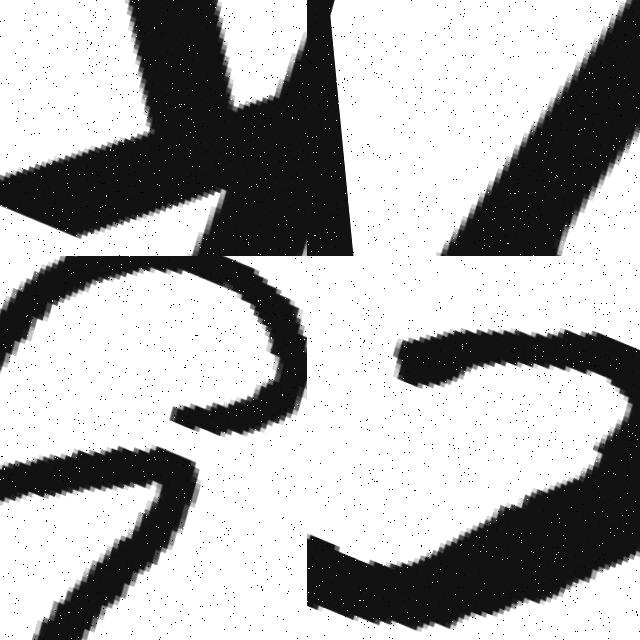C: (307, 321, 640, 627)
K: (0, 0, 307, 256)
L: (388, 0, 640, 256)
Y: (0, 256, 307, 640)
